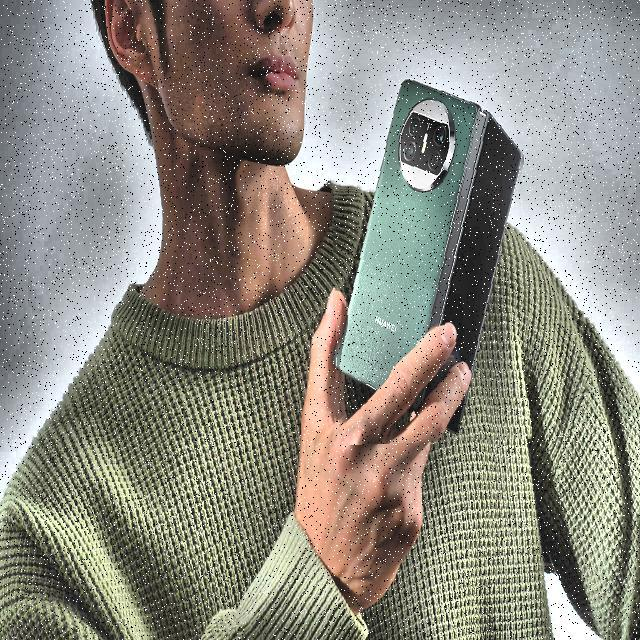Phone: (330, 69, 529, 444)
